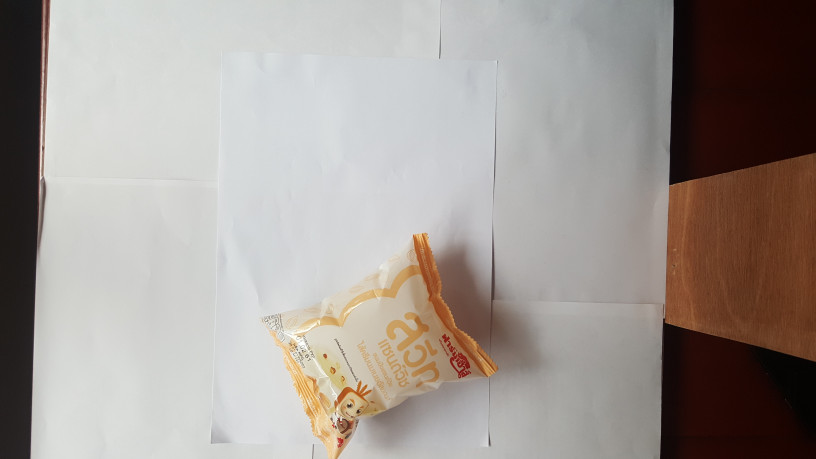farmhouse-sweetsandwich-almond: (258, 229, 499, 459)
